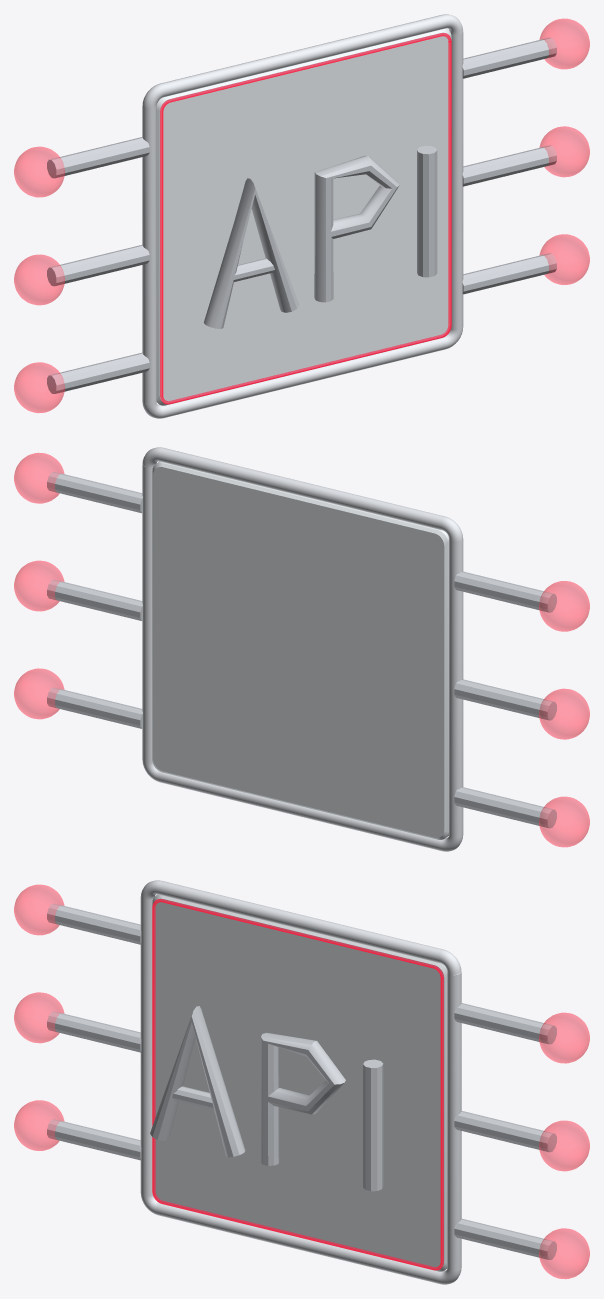
File: 14-api.glb
The picture shows the model from 3 angles, top to bottom: view 1: azimuth 30°, elevation 25°; view 2: azimuth 150°, elevation 25°; view 3: azimuth 330°, elevation 25°; orthographic projection.
Visible parts, largest first — view 1: BC clear optical glass, BC satin silver metal, BC polished silver metal, BC ruby optical glass, BC neon red glass edge; view 2: BC clear optical glass, BC polished silver metal, BC satin silver metal, BC ruby optical glass; view 3: BC clear optical glass, BC satin silver metal, BC polished silver metal, BC ruby optical glass, BC neon red glass edge.
Boxes of the visible parts, x1=… form: BC clear optical glass: x1=156, y1=28, x2=451, y2=405; BC satin silver metal: x1=47, y1=37, x2=556, y2=393; BC polished silver metal: x1=142, y1=14, x2=463, y2=418; BC ruby optical glass: x1=14, y1=18, x2=589, y2=413; BC neon red glass edge: x1=160, y1=33, x2=451, y2=404; BC clear optical glass: x1=152, y1=461, x2=448, y2=839; BC polished silver metal: x1=142, y1=447, x2=463, y2=851; BC satin silver metal: x1=47, y1=472, x2=556, y2=828; BC ruby optical glass: x1=14, y1=452, x2=589, y2=847; BC clear optical glass: x1=152, y1=894, x2=447, y2=1271; BC satin silver metal: x1=47, y1=903, x2=556, y2=1259; BC polished silver metal: x1=140, y1=880, x2=461, y2=1284; BC ruby optical glass: x1=14, y1=884, x2=589, y2=1279; BC neon red glass edge: x1=152, y1=899, x2=443, y2=1270.
Size of the model in its own units: 2.32 by 1.3 by 0.3142.
